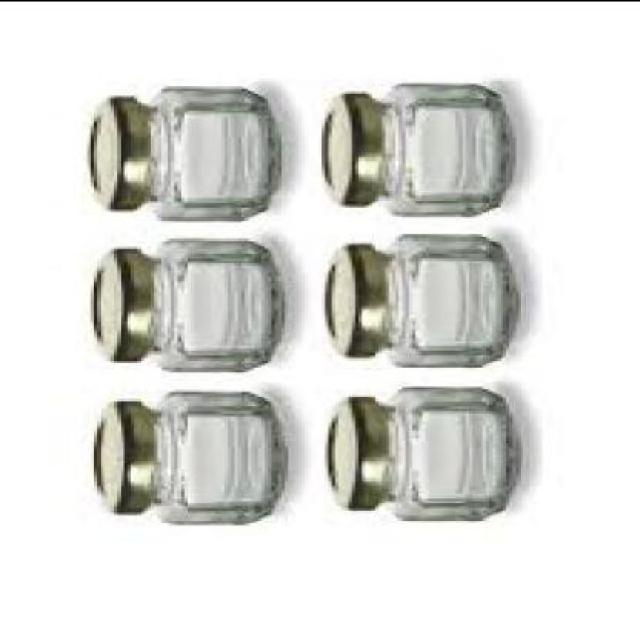GLASS: (154, 392, 283, 525), (386, 83, 514, 214), (388, 234, 517, 363), (391, 388, 517, 520), (152, 86, 278, 215), (155, 240, 278, 369)
METAL: (320, 92, 392, 209), (85, 94, 155, 214), (323, 397, 394, 512), (89, 402, 158, 517), (322, 245, 391, 360), (91, 248, 157, 365)
